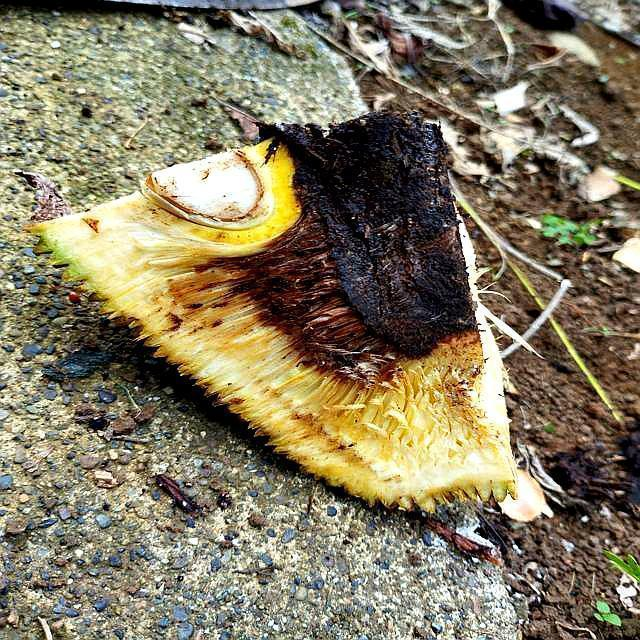Biodegradable: (73, 99, 525, 507)
